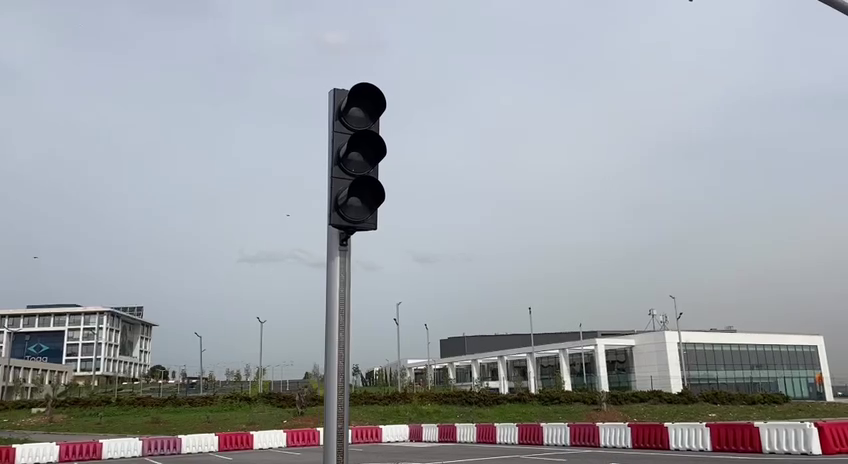trafficLight: (321, 77, 390, 240)
